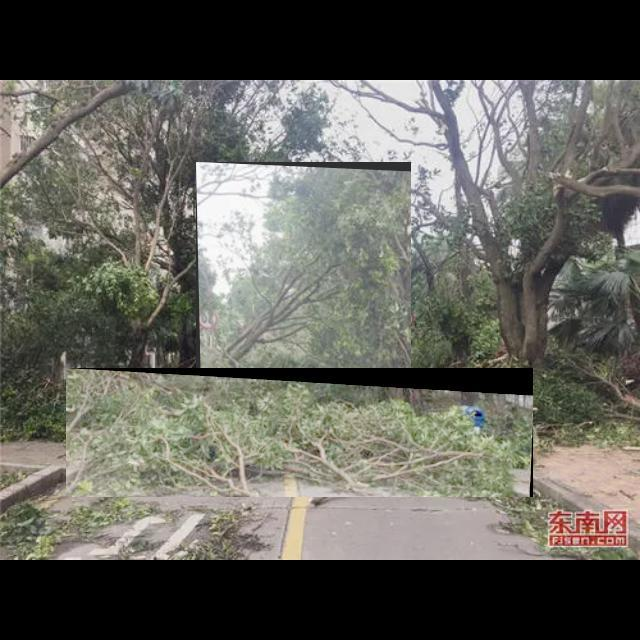fallen_tree: (66, 368, 534, 498), (196, 162, 412, 382)
